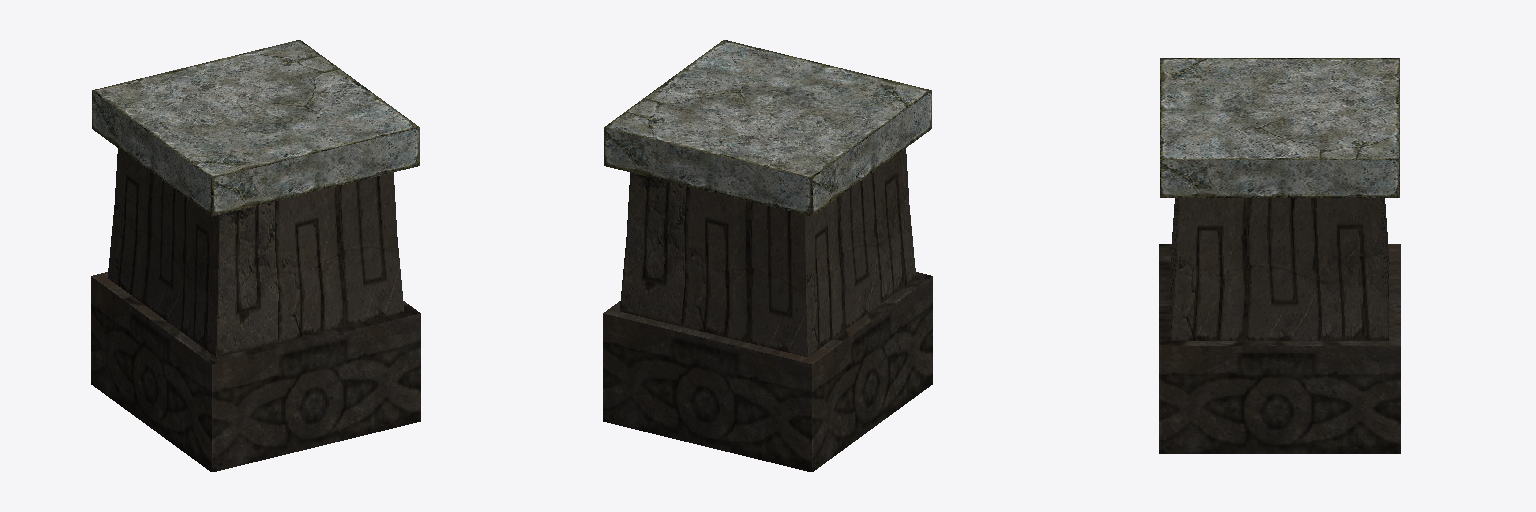
The picture shows the model from 3 angles: view 1: azimuth 30°, elevation 25°; view 2: azimuth 150°, elevation 25°; view 3: azimuth 270°, elevation 25°; orthographic projection.
Visible parts, largest first — view 1: Box003, Box002, Box001; view 2: Box003, Box002, Box001; view 3: Box001, Box003, Box002.
Boxes of the visible parts, box(x1,y1,x2,y2) form: Box003: box(108, 148, 403, 356); Box002: box(91, 272, 420, 471); Box001: box(92, 40, 419, 216); Box003: box(620, 148, 915, 356); Box002: box(603, 272, 932, 471); Box001: box(604, 40, 931, 216); Box001: box(1160, 58, 1399, 197); Box003: box(1171, 198, 1388, 340); Box002: box(1159, 244, 1400, 453).
Bounding box in the file's own units: 0.6 × 0.8052 × 0.6.
2 materials, 2 textured.